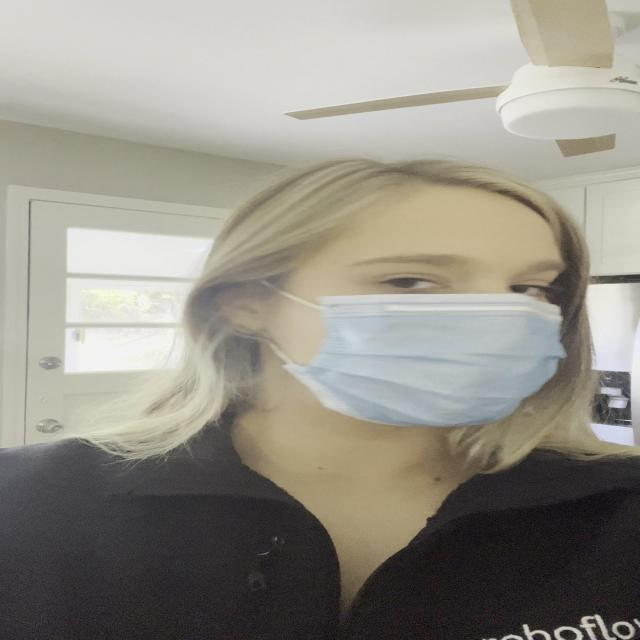no-helmet: (256, 182, 570, 428)
